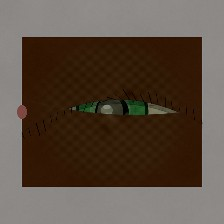corneal_ulcer: (84, 91, 137, 134)
